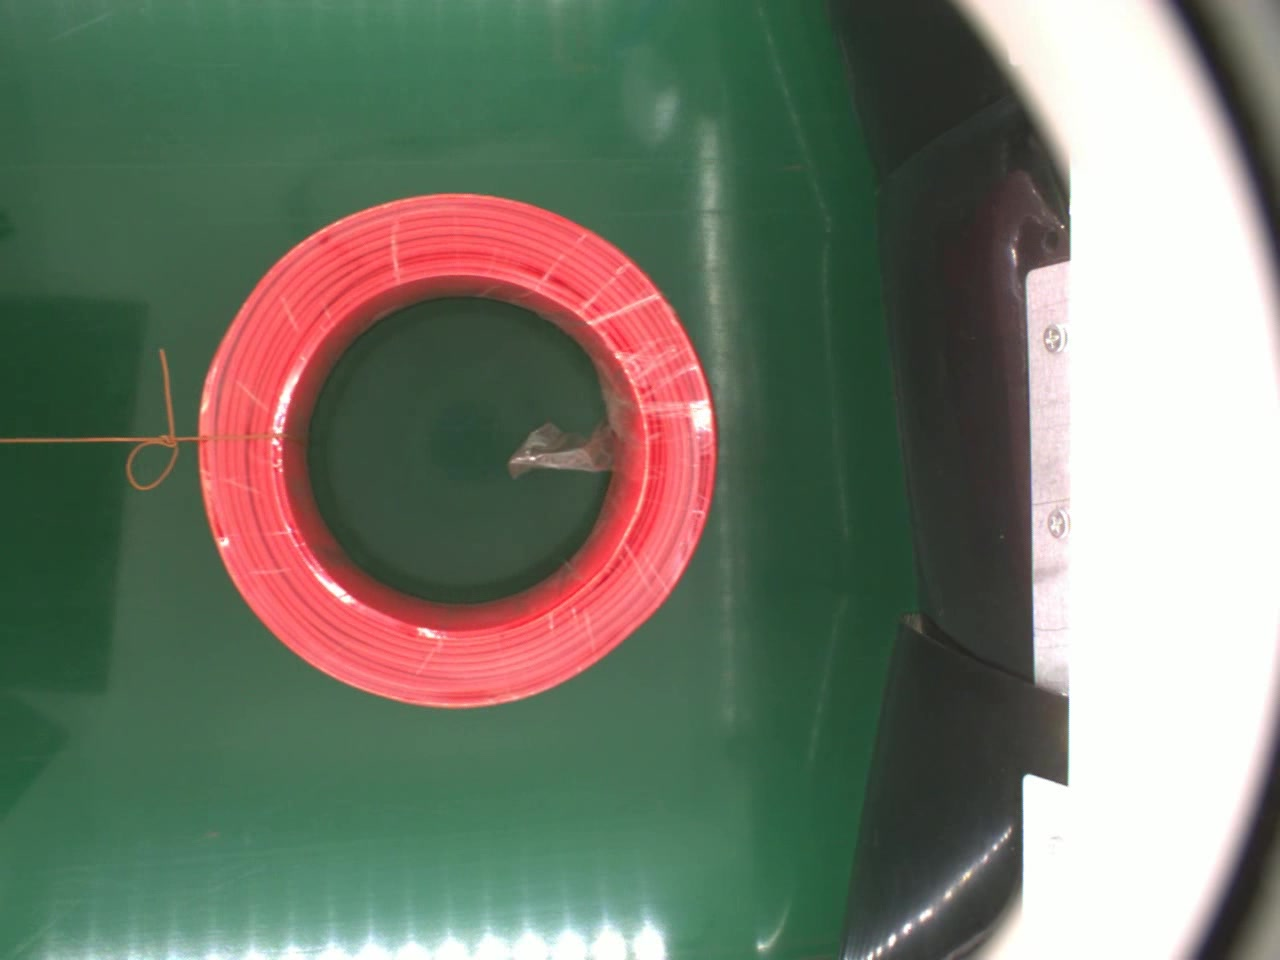red: (176, 190, 731, 715)
